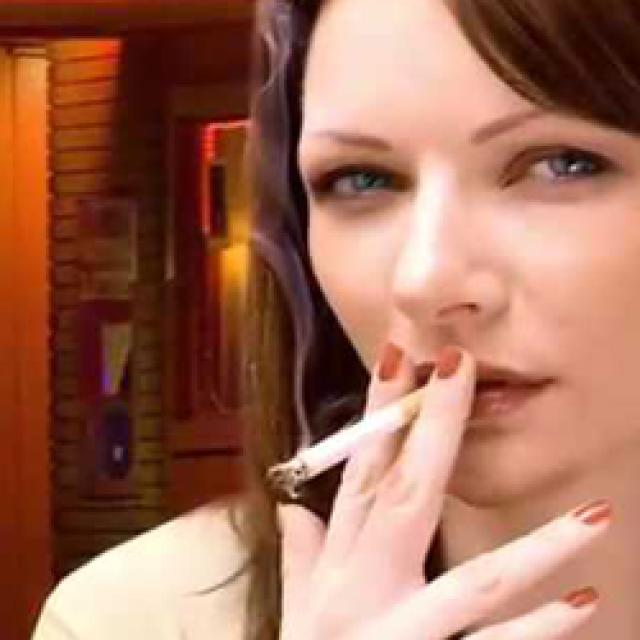Smooking: (243, 382, 478, 492)
